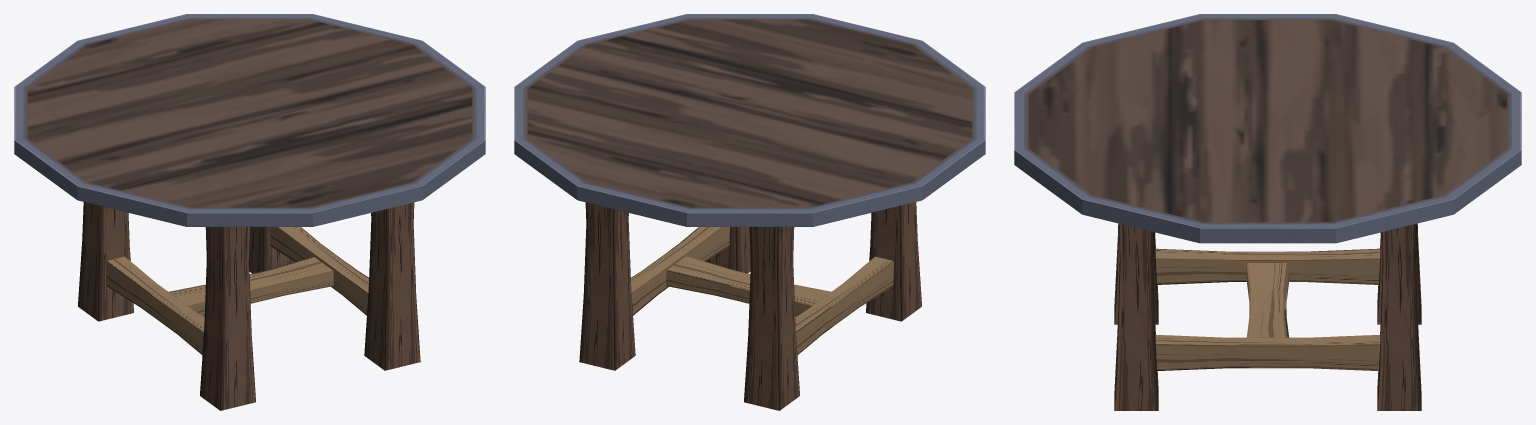
The model's file is furniture_table_round_01.fbx.
3 renders of one model, left to right at view 1: azimuth 30°, elevation 25°; view 2: azimuth 150°, elevation 25°; view 3: azimuth 270°, elevation 25°, orthographic. The views are drawn at different scales.
Visible parts, largest first — view 1: furniture_table_round_01; view 2: furniture_table_round_01; view 3: furniture_table_round_01.
Part boxes in pixels (x1,y1,x2,y2): furniture_table_round_01: [14, 14, 485, 410]; furniture_table_round_01: [514, 14, 985, 410]; furniture_table_round_01: [1014, 14, 1521, 410].
Bounding box in the file's own units: 1.55 × 0.798 × 1.55.
1 material, 1 textured.
